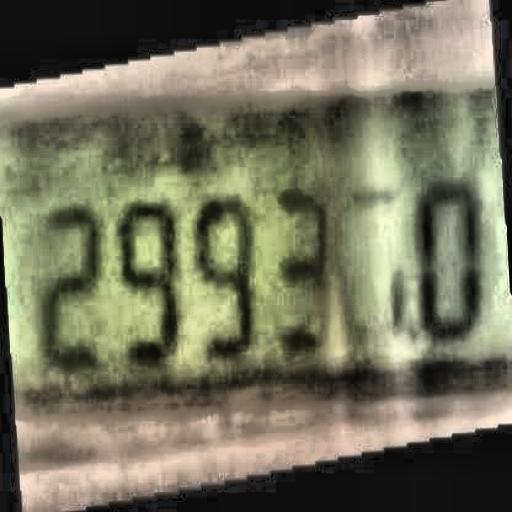DISPLAY_REGION: (0, 80, 511, 420)
SERIAL_REGION: (32, 173, 484, 368)
